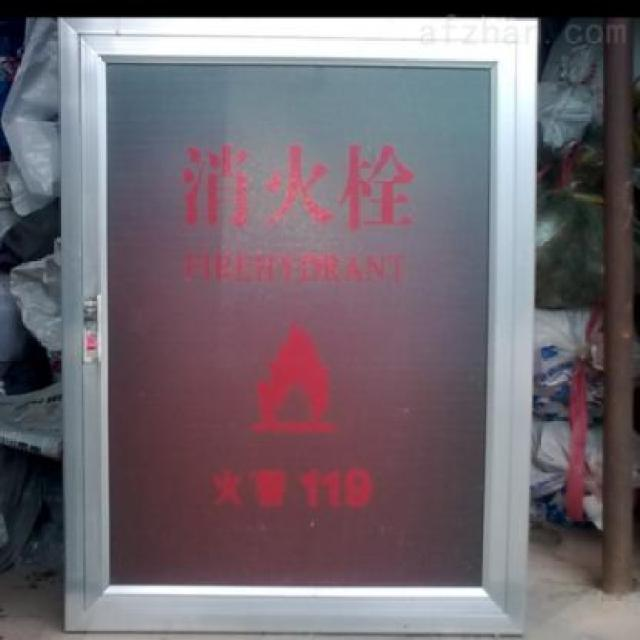firehydrant: (54, 9, 543, 640)
